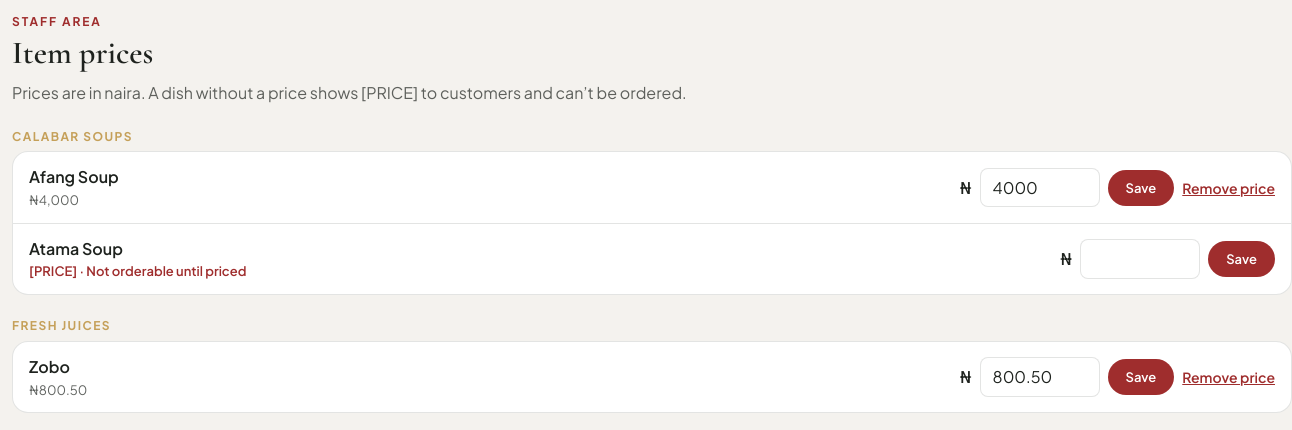
AdminPricesView › prices a dish that had no price yet
This screenshot has width=1292, height=430.
Type "5000" into the field named "Price of Atama Soup in naira" at (1140, 259), box [1080,239,1200,279]
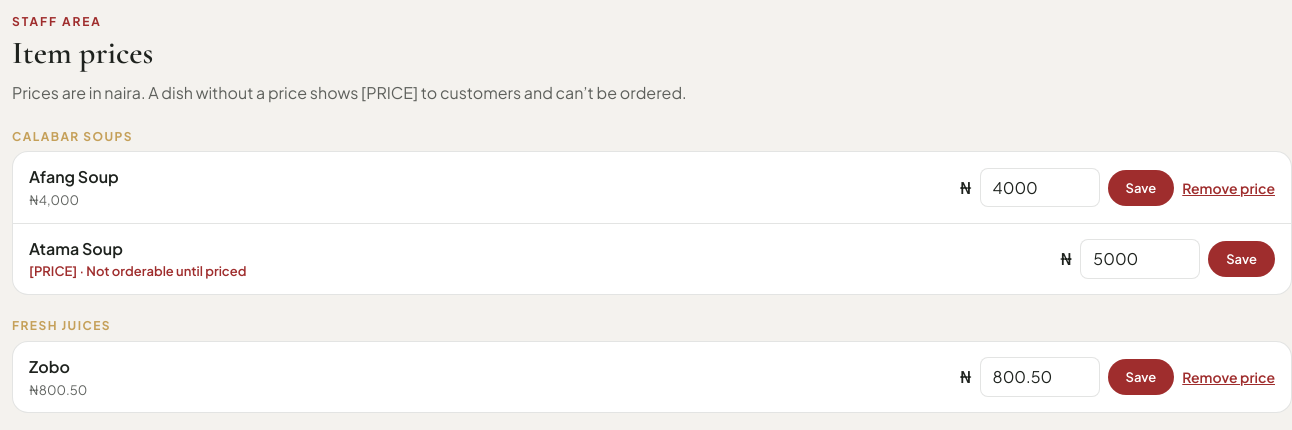
Submit the form "Atama Soup [PRICE] · Not orderable until priced ₦ Save", box [29,236,1275,282]
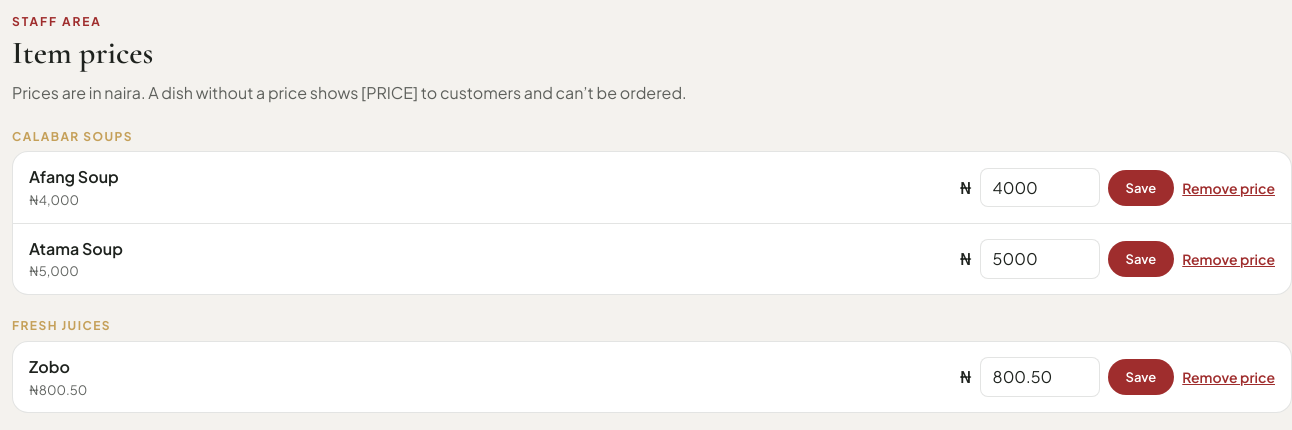
Expected: the element with test id "dish" does not show "[PRICE]"
Expected: the button with test id "remove-price" in the row of "Atama Soup" is shown, [1182,250,1275,268]
